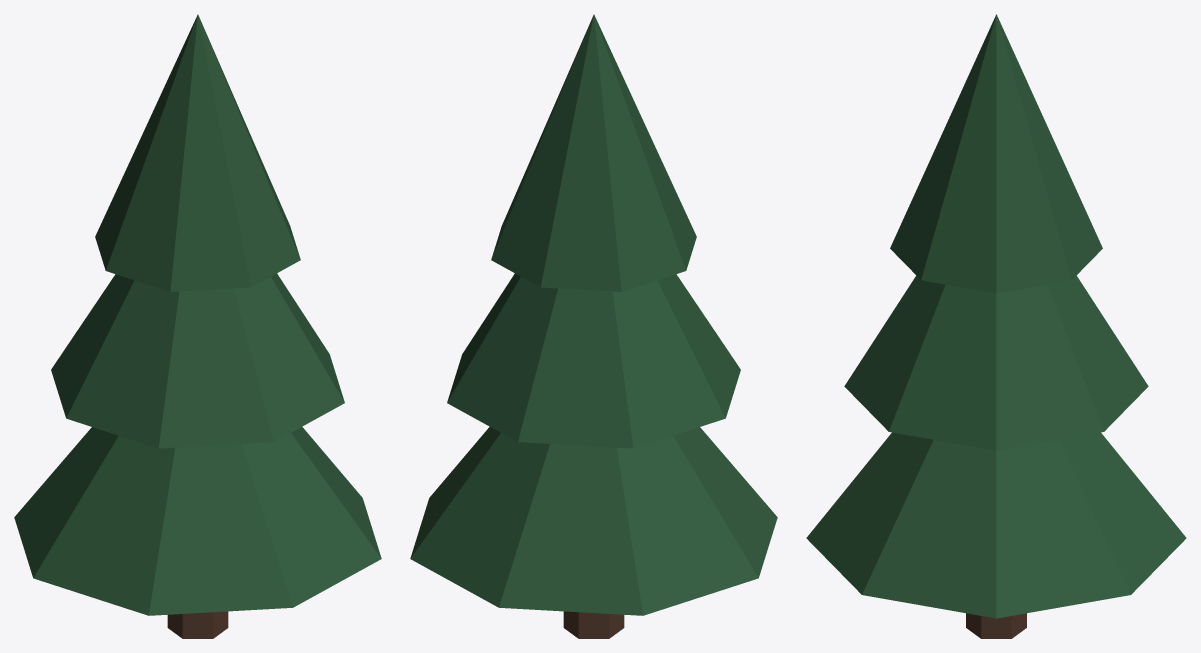
File: pine_tree.glb
3 views of the same model, side by side, from view 1: azimuth 30°, elevation 25°; view 2: azimuth 150°, elevation 25°; view 3: azimuth 270°, elevation 25° (orthographic).
Visible parts, largest first — view 1: CLPine; view 2: CLPine; view 3: CLPine.
Part boxes in pixels (<box>): CLPine: <box>14,14,381,638</box>; CLPine: <box>410,14,777,638</box>; CLPine: <box>806,14,1186,638</box>.
Size of the model in its own units: 0.5 by 0.89 by 0.5.
